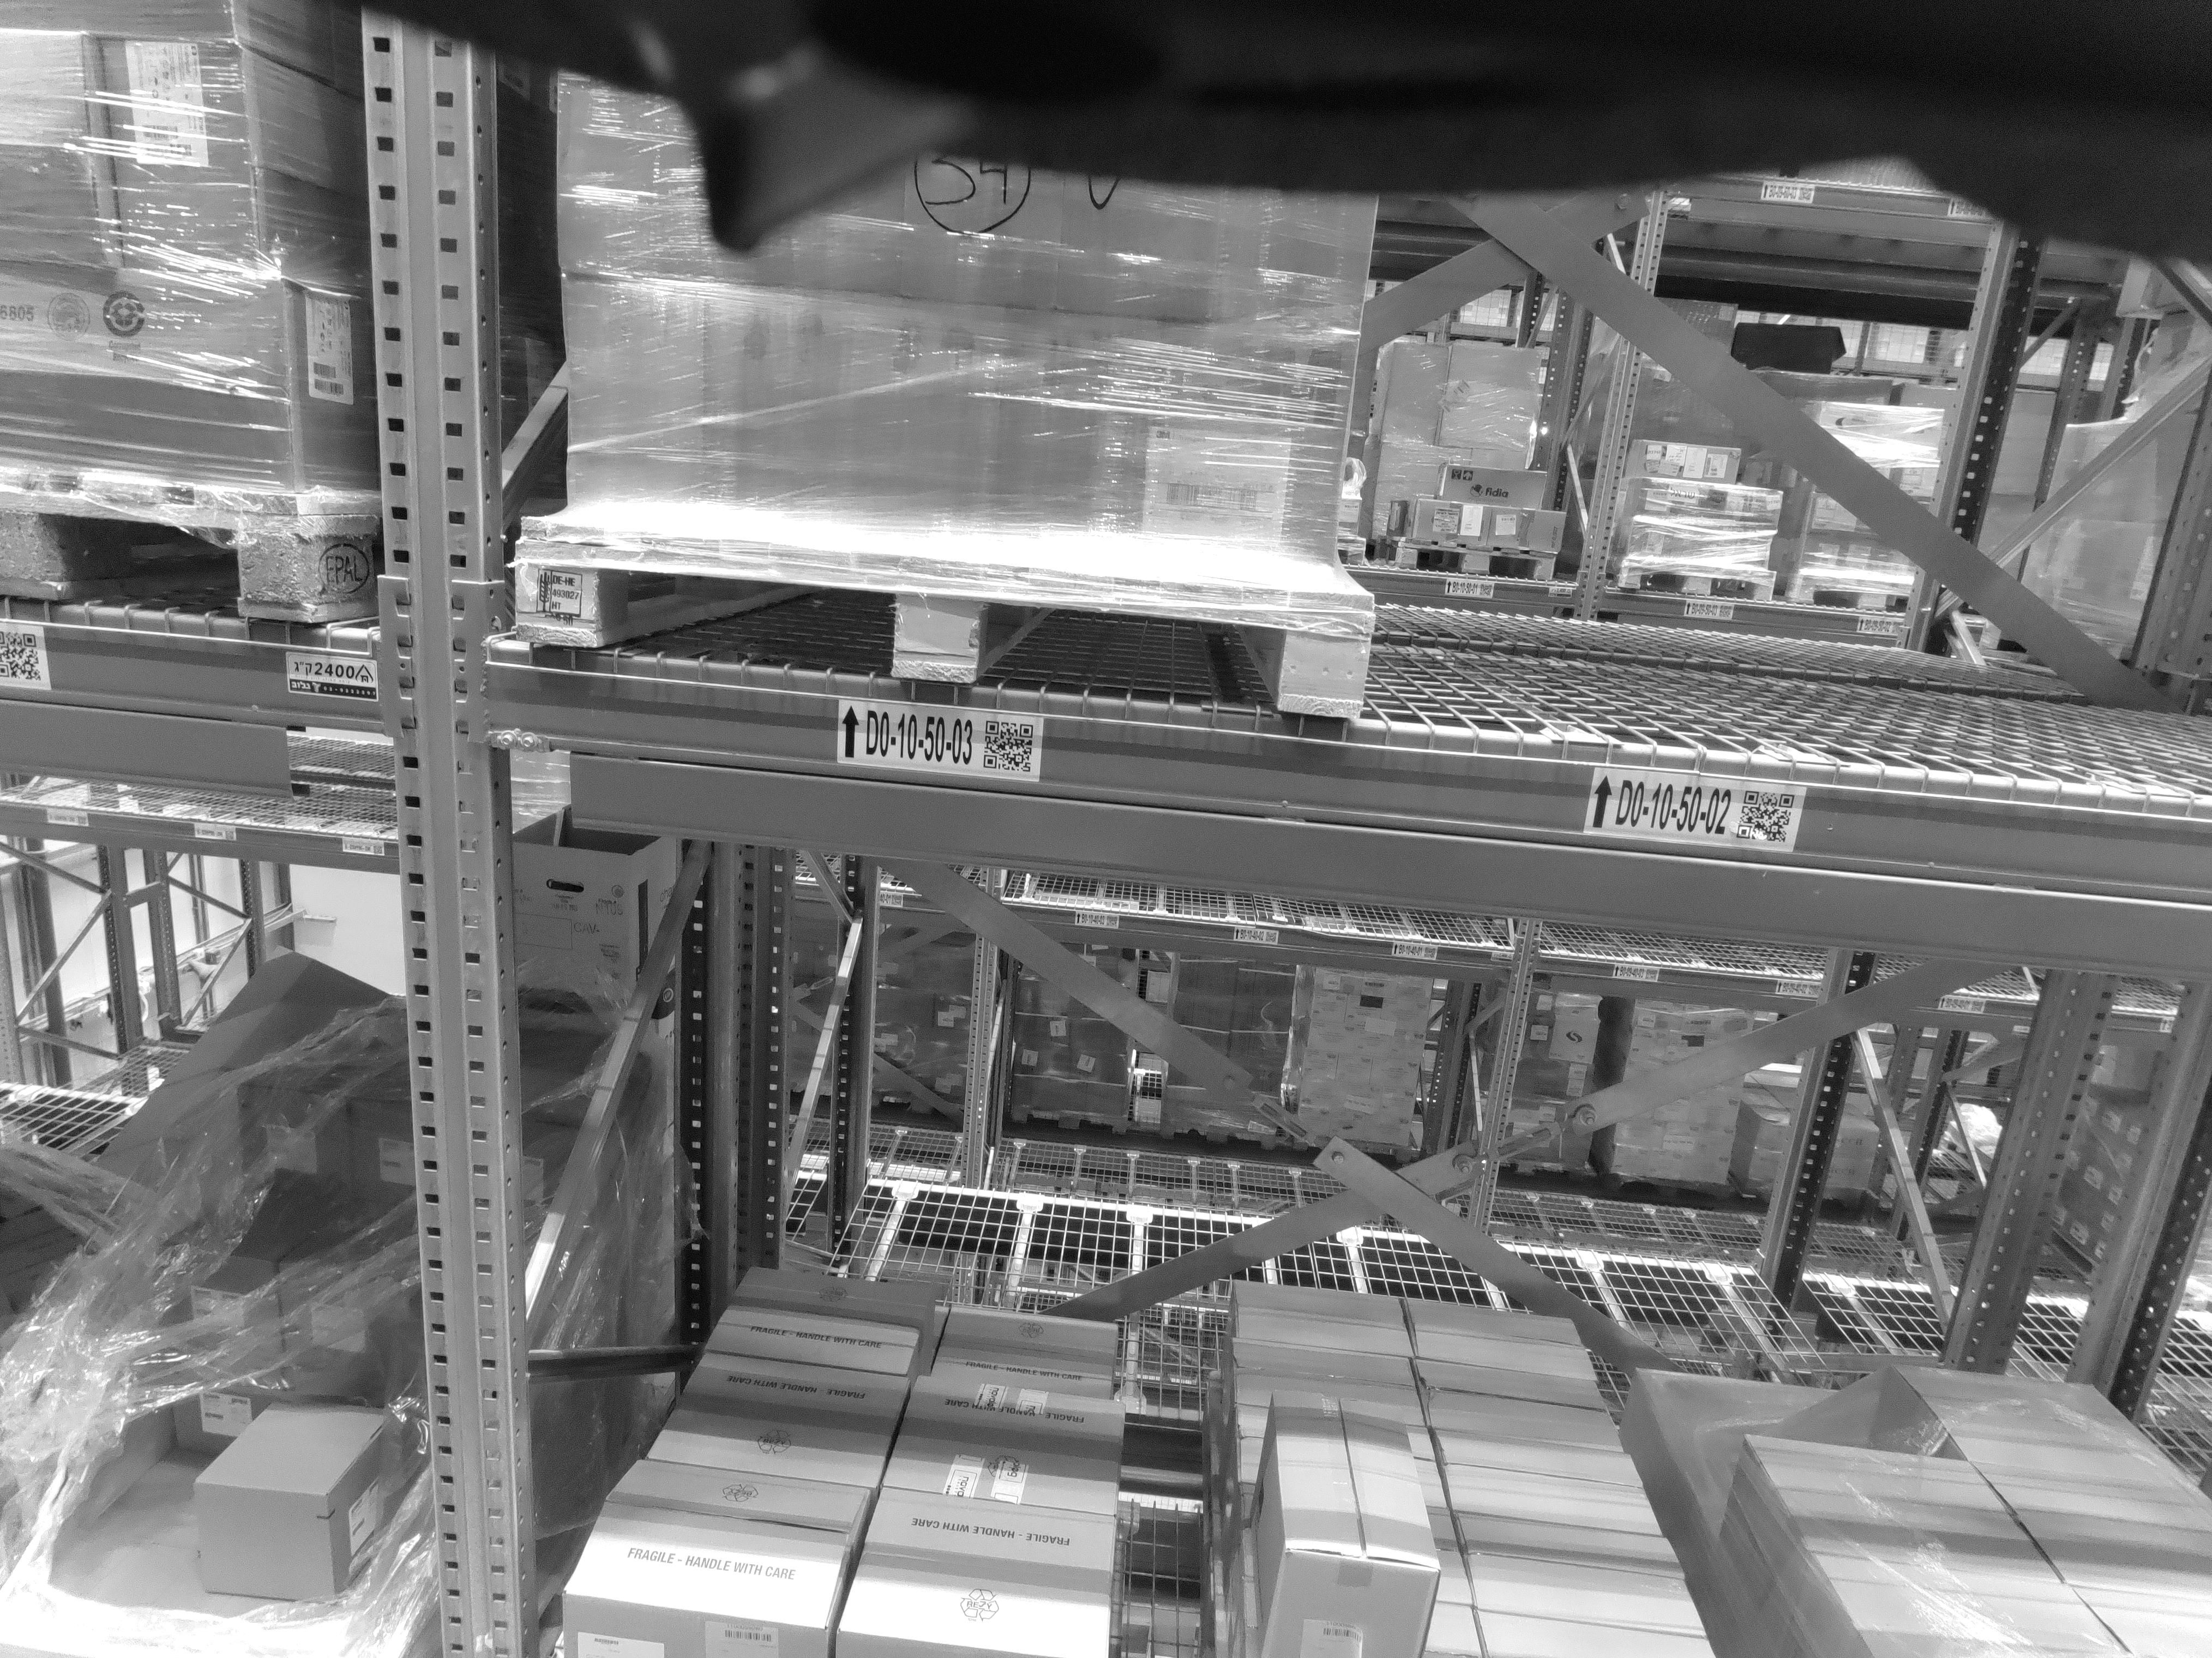empty-shelf: (1515, 207, 2212, 752)
